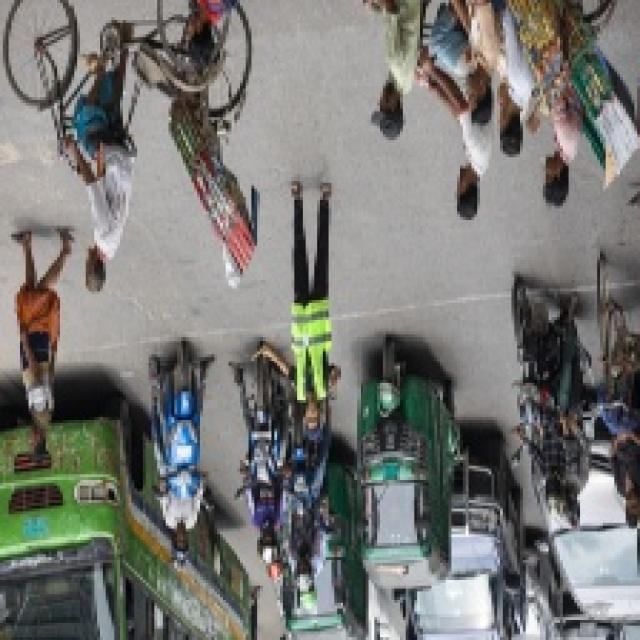bike: (500, 278, 586, 430), (157, 345, 207, 506), (241, 349, 294, 500), (283, 397, 326, 542)
car: (403, 443, 515, 640), (520, 447, 638, 626)
rickshaw: (1, 11, 260, 283), (407, 29, 633, 209)
